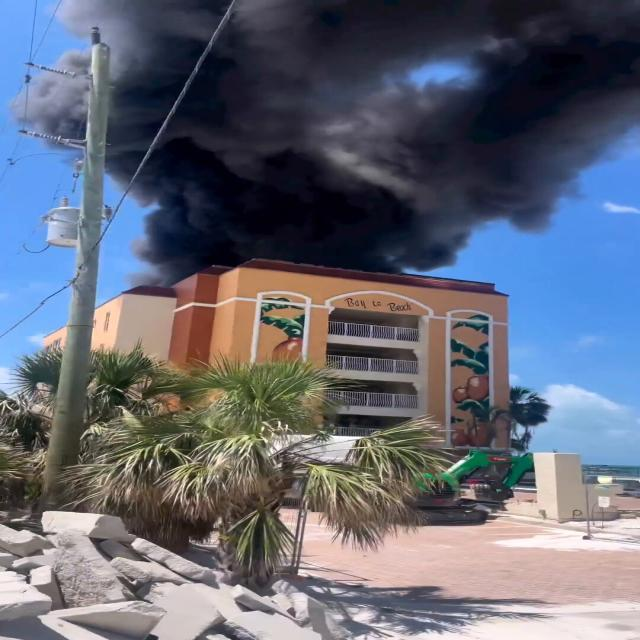Fire: (138, 12, 516, 246)
